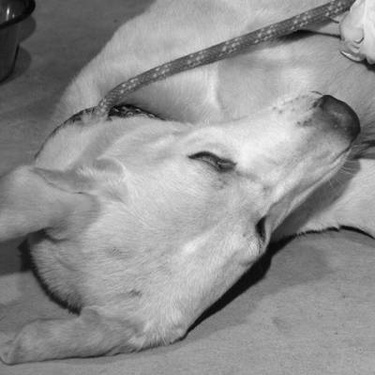dog: (3, 1, 372, 367), (334, 4, 374, 67)
